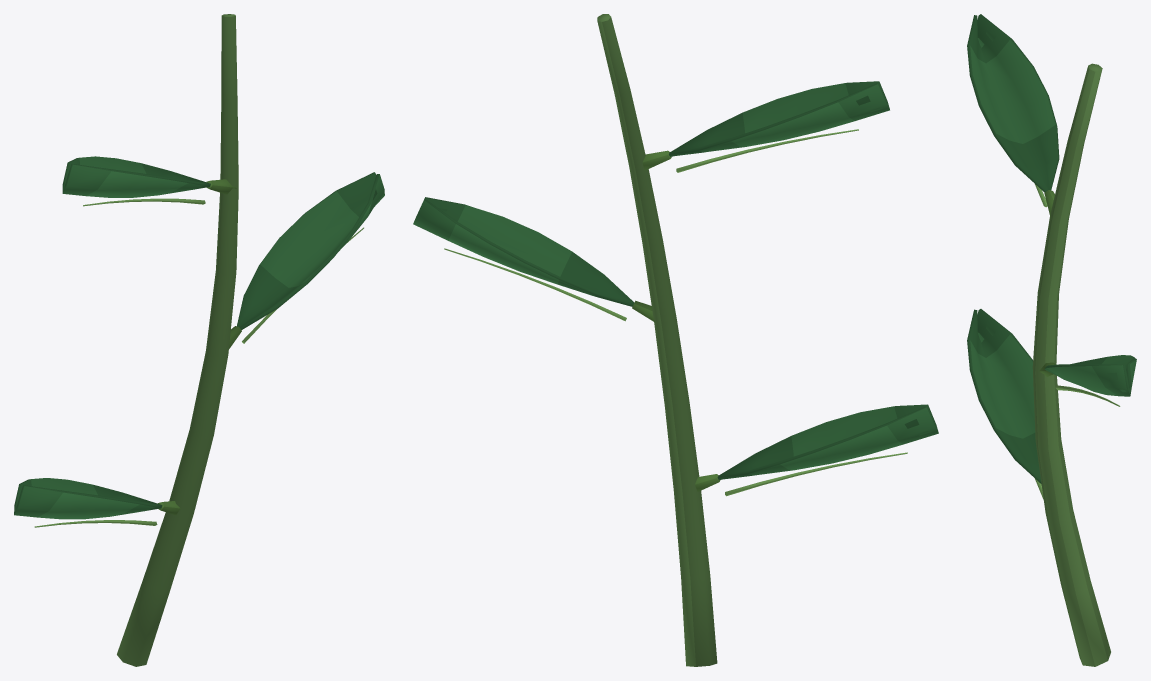
Rendered from garden-rose-leaves-stem-2.glb.
The picture shows the model from 3 angles, left to right: view 1: azimuth 30°, elevation 25°; view 2: azimuth 150°, elevation 25°; view 3: azimuth 270°, elevation 25°; orthographic projection. The views are drawn at different scales.
Parts seen in each view (by area): view 1: rose-leaves-stem-2; view 2: rose-leaves-stem-2; view 3: rose-leaves-stem-2.
Part boxes in pixels (x1=…): rose-leaves-stem-2: x1=14, y1=14, x2=384, y2=666; rose-leaves-stem-2: x1=413, y1=14, x2=938, y2=666; rose-leaves-stem-2: x1=967, y1=14, x2=1136, y2=666.
Bounding box in the file's own units: 0.2238 × 0.2991 × 0.0715.
